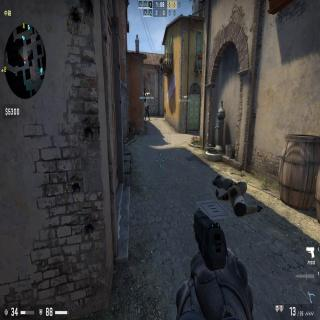CT-Body: (144, 104, 150, 120)
